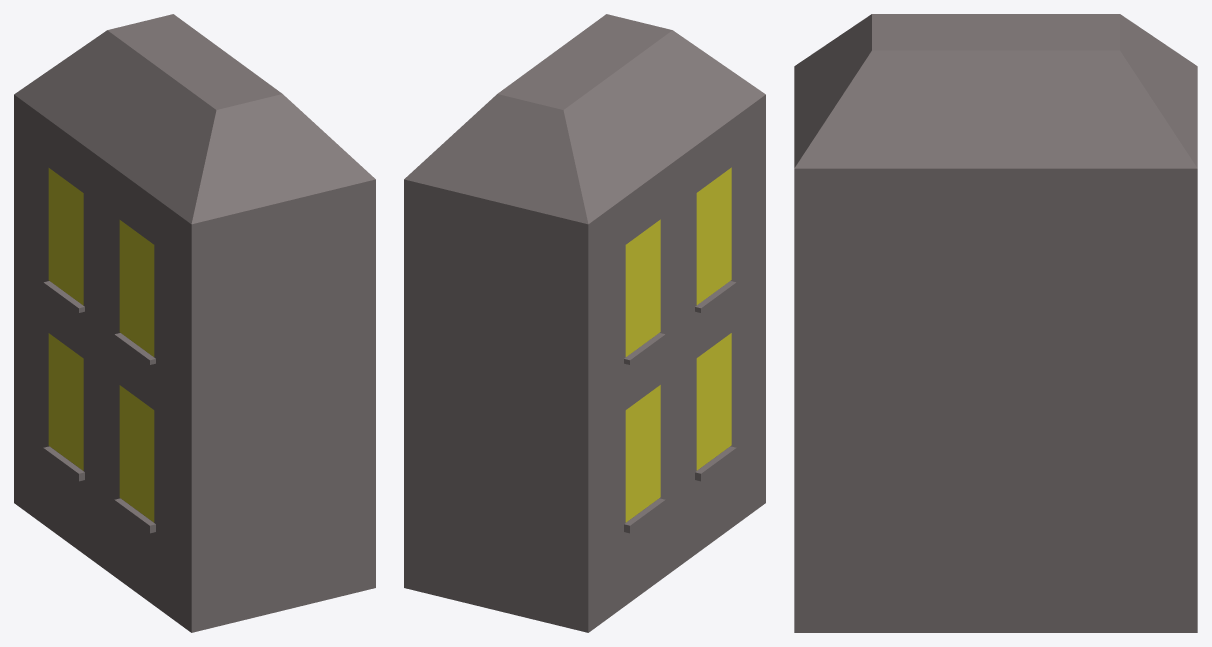
The model's file is haus3.fbx.
3 renders of one model, left to right at view 1: azimuth 30°, elevation 25°; view 2: azimuth 150°, elevation 25°; view 3: azimuth 270°, elevation 25°, orthographic. The views are drawn at different scales.
Parts seen in each view (by area): view 1: Haus, window2, window1, window4, window3; view 2: Haus, window1, window2, window3, window4; view 3: Haus.
Part boxes in pixels (box(x1,y1,x2,y2)): Haus: box(14, 14, 375, 632); window2: box(48, 333, 83, 470); window1: box(119, 385, 154, 522); window4: box(48, 168, 83, 305); window3: box(119, 220, 154, 356); Haus: box(404, 14, 765, 632); window1: box(696, 333, 731, 470); window2: box(625, 385, 660, 522); window3: box(696, 167, 731, 304); window4: box(625, 219, 660, 356); Haus: box(794, 14, 1197, 632).
Bounding box in the file's own units: 310 × 751 × 500.
